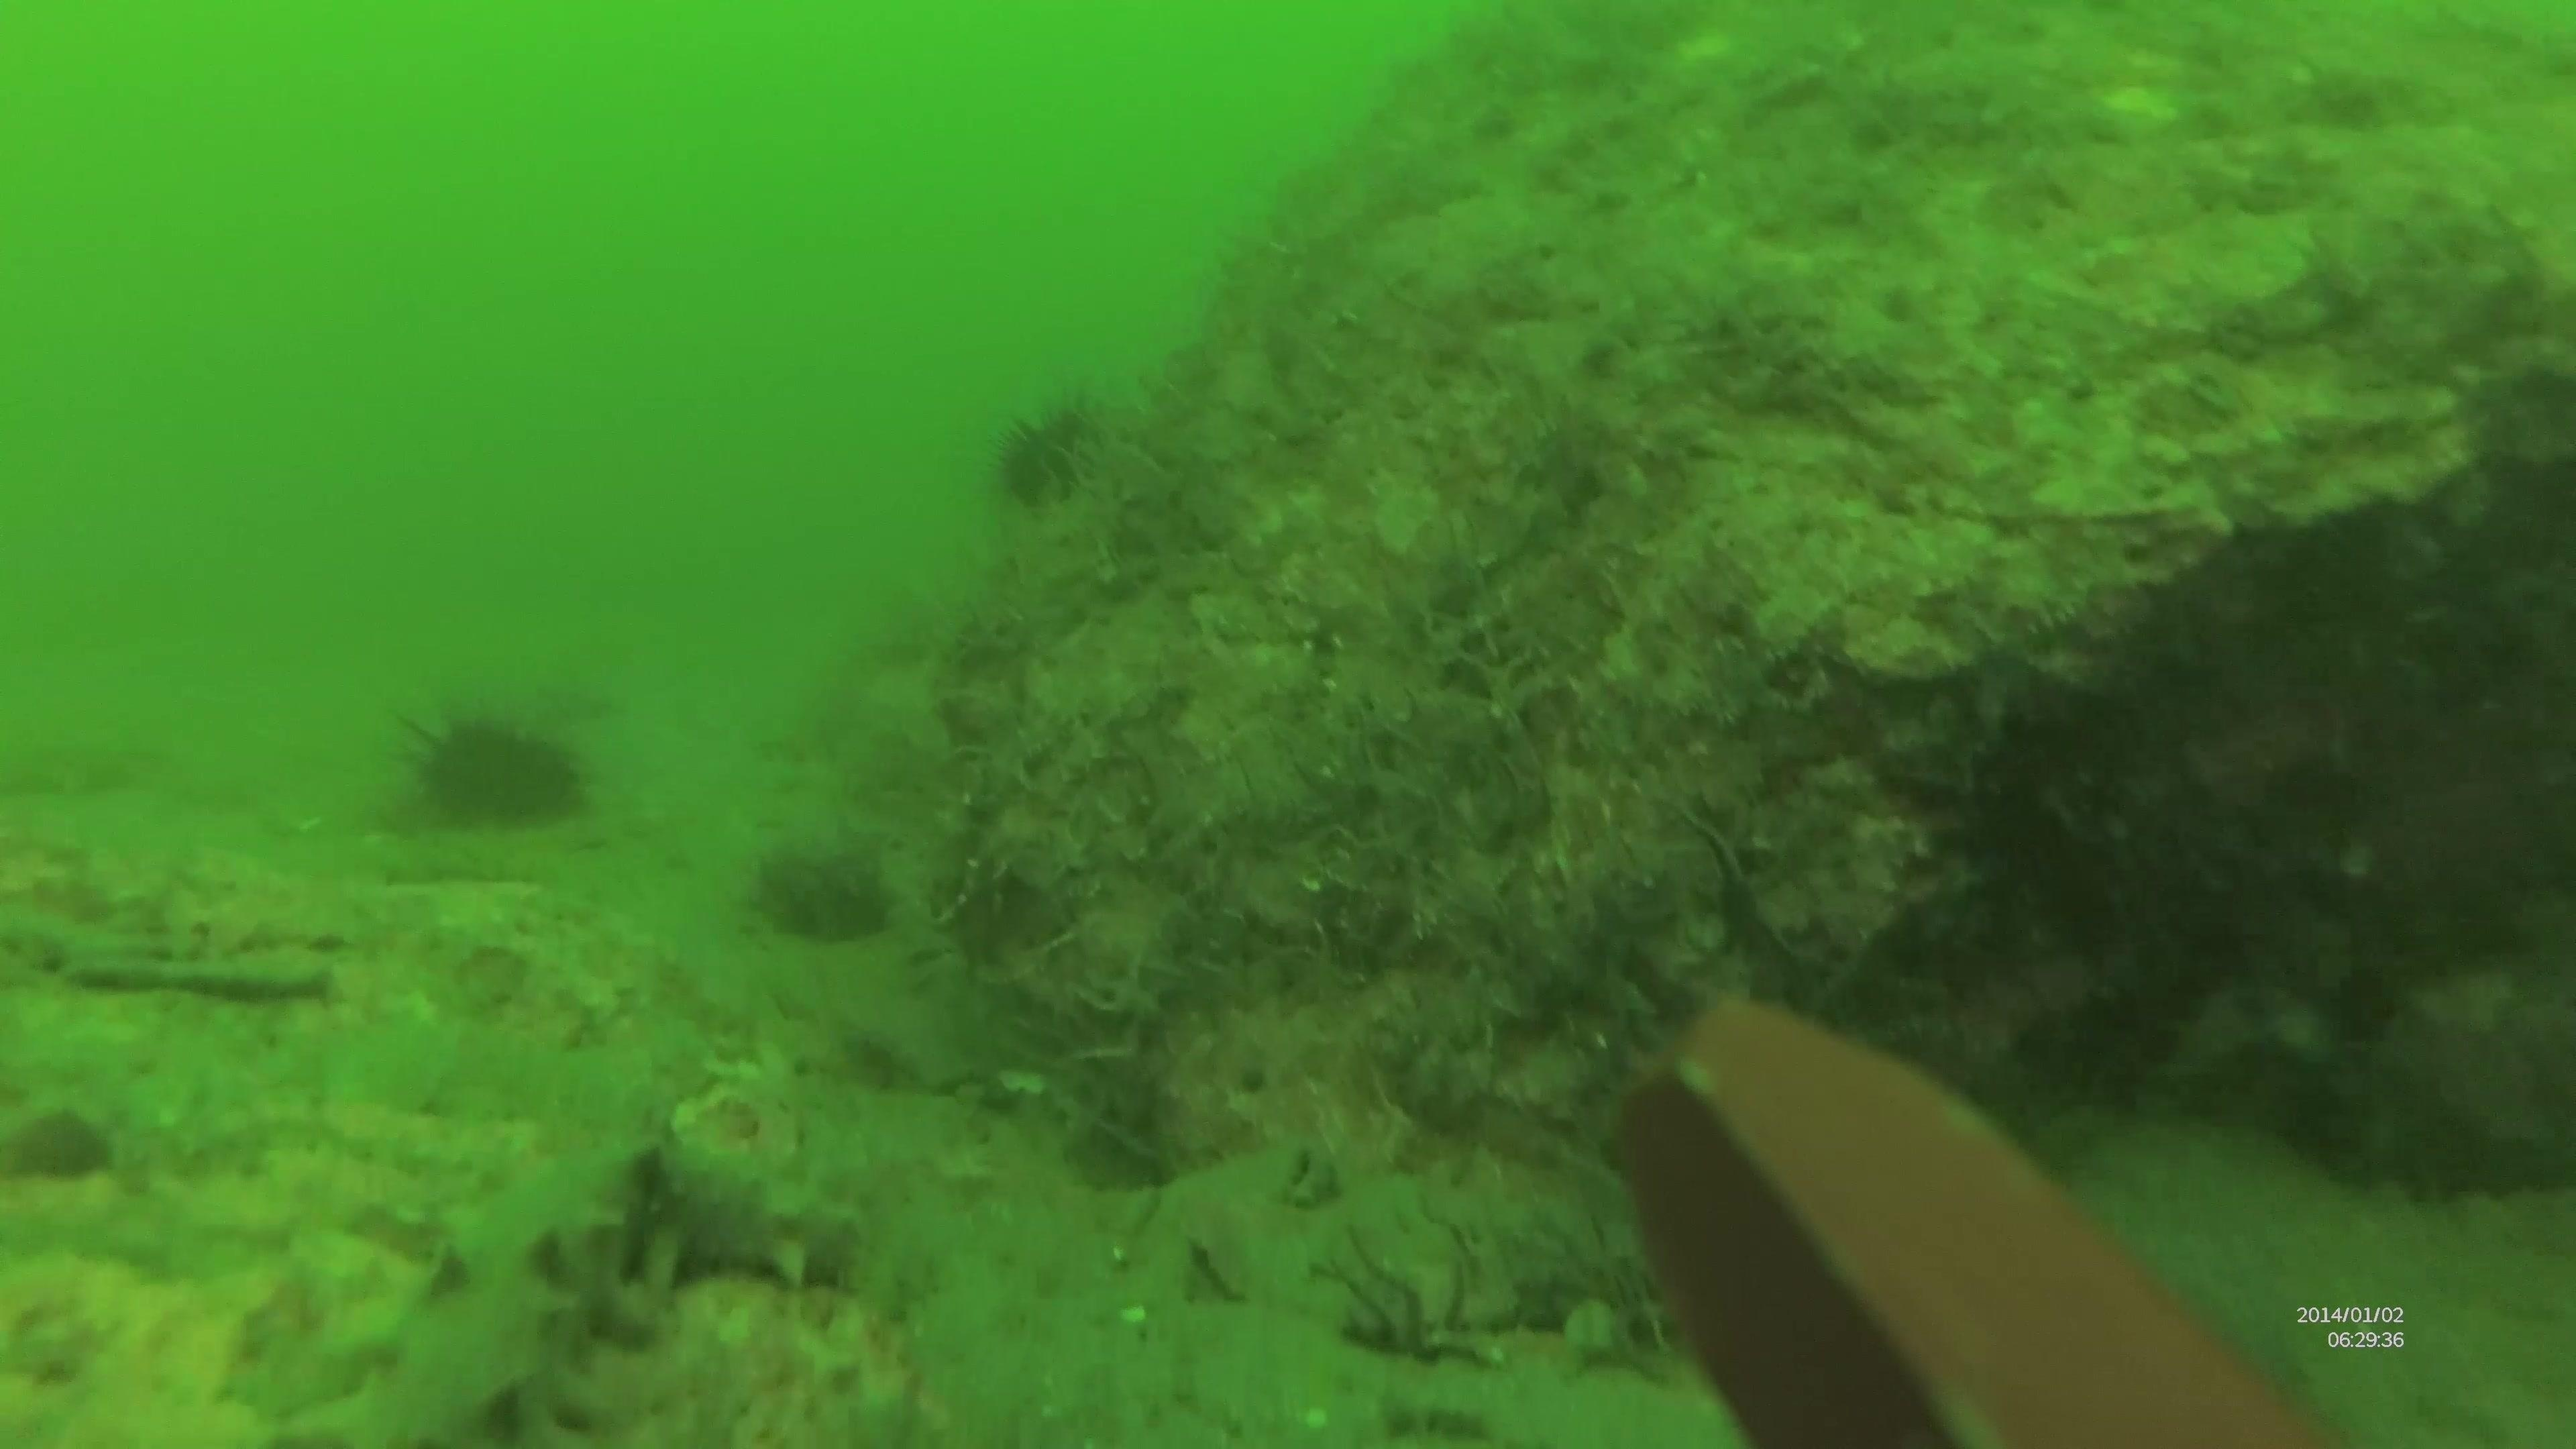echinus: (389, 697, 594, 840)
holothurian: (317, 1118, 869, 1444)
